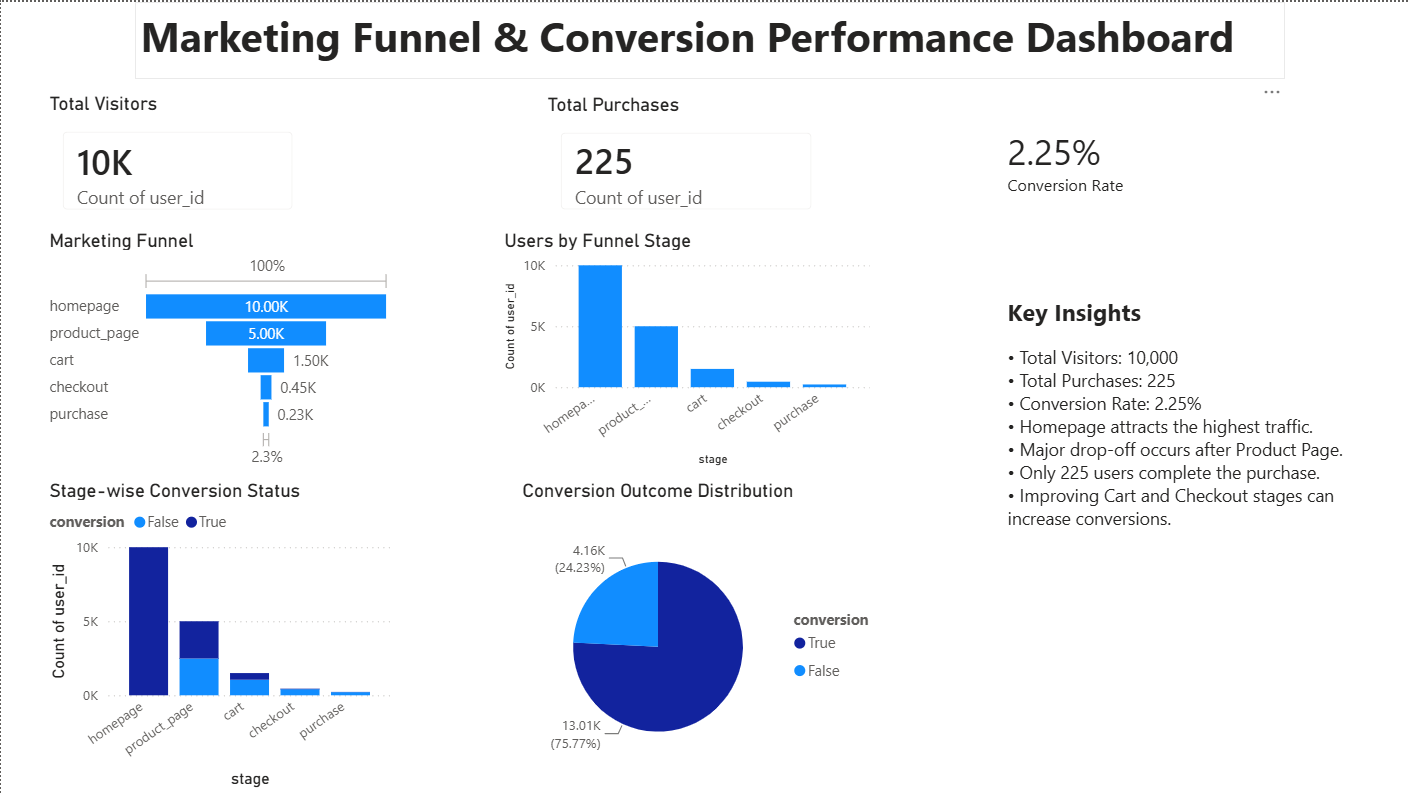

Layout of this report page (visuals, bound fields, positions):
{"tool":"powerbi","page":{"name":"Page 1","canvas":[1280,720],"ordinal":0},"visuals":[{"type":"funnel","title":"Marketing Funnel","fields":{"Category":["user_data.stage"],"Y":["CountNonNull(user_data.user_id)"]},"box":[38.9,206.2,321,219.8],"z":0},{"type":"cardVisual","title":"Total Visitors","fields":{"Data":["CountNonNull(user_data.user_id)"]},"box":[38.9,81.7,243.2,124.5],"z":1},{"type":"cardVisual","title":"Total Purchases","fields":{"Data":["CountNonNull(user_data.user_id)"]},"box":[492.2,82.7,262.6,123.5],"z":2},{"type":"textbox","box":[910.4,108,256.8,87.5],"z":3},{"type":"columnChart","title":"Users by Funnel Stage","fields":{"Category":["user_data.stage"],"Y":["CountNonNull(user_data.user_id)"]},"box":[452.3,206.2,342.4,219.8],"z":4},{"type":"pieChart","title":"Conversion Outcome Distribution","fields":{"Category":["user_data.conversion"],"Y":["CountNonNull(user_data.user_id)"]},"box":[468.8,433.8,342.4,286],"z":5},{"type":"textbox","box":[910.4,261.6,330.7,262.6],"z":6},{"type":"columnChart","title":"Stage-wise Conversion Status","fields":{"Category":["user_data.stage"],"Y":["CountNonNull(user_data.user_id)"],"Series":["user_data.conversion"]},"box":[38.9,433.8,321,286],"z":7},{"type":"textbox","box":[121.6,0,1045.6,70],"z":8}]}

Visuals, with their boxes in screenshot pixels (x1, y1, x2, y2), scaled from the page's 1280x720 canvas onto the 1409x793 screenshot:
"Marketing Funnel" funnel: 43,227,396,469
"Total Visitors" cardVisual: 43,90,311,227
"Total Purchases" cardVisual: 542,91,831,227
textbox: 1002,119,1285,215
"Users by Funnel Stage" columnChart: 498,227,875,469
"Conversion Outcome Distribution" pieChart: 516,478,893,792
textbox: 1002,288,1366,577
"Stage-wise Conversion Status" columnChart: 43,478,396,792
textbox: 134,0,1285,77
